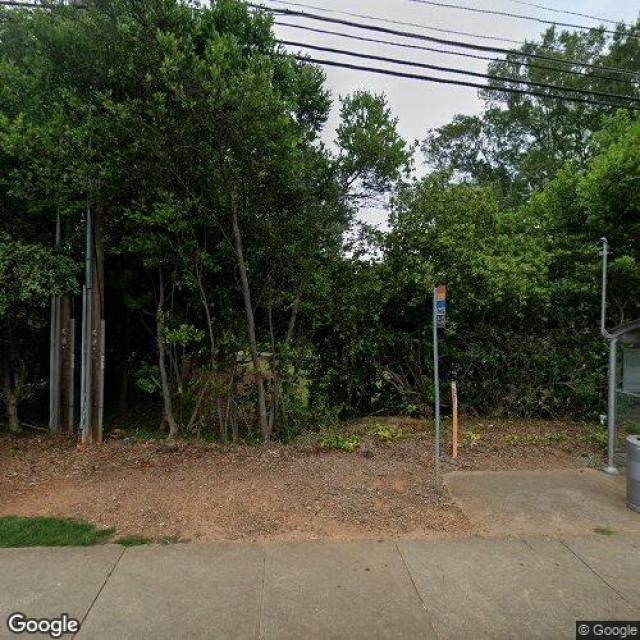shelter: (601, 314, 640, 477)
trash_can: (626, 432, 640, 514)
